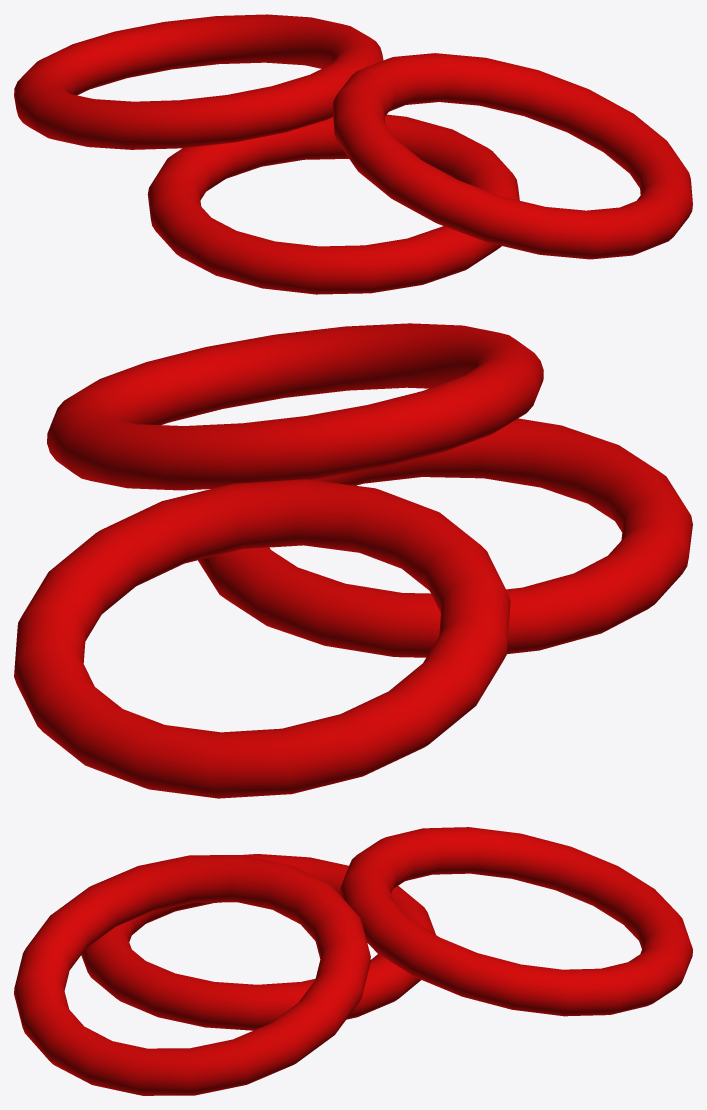
The model's file is Rings.fbx.
The picture shows the model from 3 angles, top to bottom: view 1: azimuth 30°, elevation 25°; view 2: azimuth 150°, elevation 25°; view 3: azimuth 270°, elevation 25°; orthographic projection. The views are drawn at different scales.
Parts seen in each view (by area): view 1: pTorus4; view 2: pTorus4; view 3: pTorus4.
Boxes of the visible parts, box(x1,y1,x2,y2) form: pTorus4: box(14, 14, 692, 294); pTorus4: box(14, 323, 692, 798); pTorus4: box(14, 827, 692, 1095).
Size of the model in its own units: 0.4036 by 0.1056 by 0.5317.
